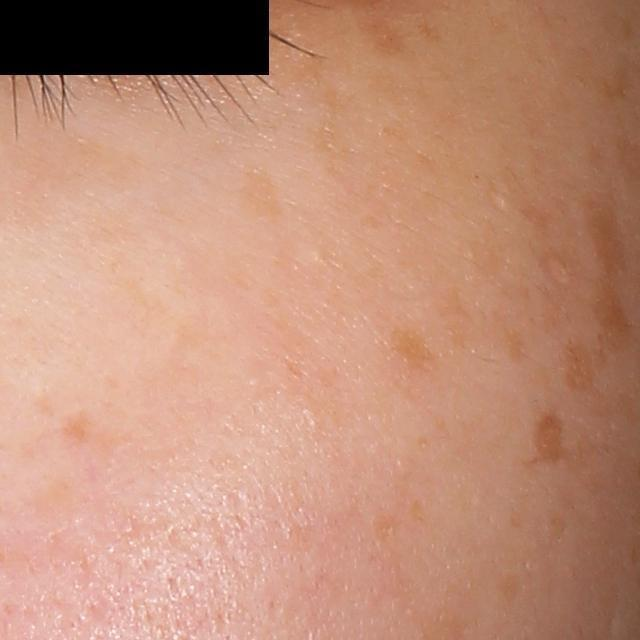melasma: (560, 201, 629, 398), (114, 280, 226, 377), (3, 135, 147, 208), (53, 410, 138, 478), (309, 86, 357, 183), (27, 473, 79, 525), (387, 326, 441, 375), (235, 167, 283, 222), (464, 232, 509, 287), (532, 412, 574, 465), (370, 514, 409, 546), (502, 322, 531, 364)
